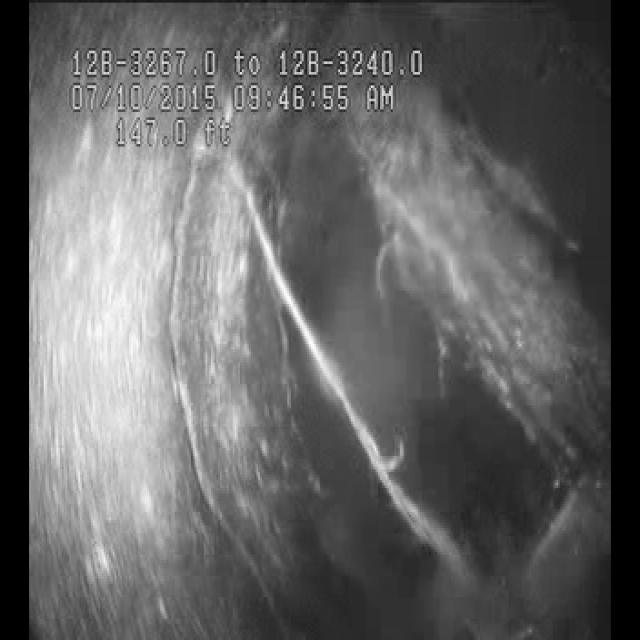Crack: (146, 174, 436, 586)
